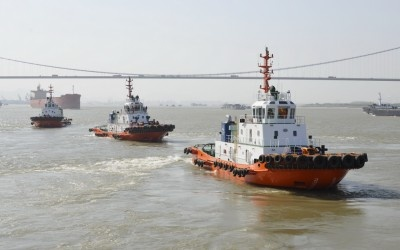Cargoship: (25, 82, 82, 111)
otherboat: (180, 48, 371, 188), (83, 70, 177, 143), (30, 86, 67, 129)
